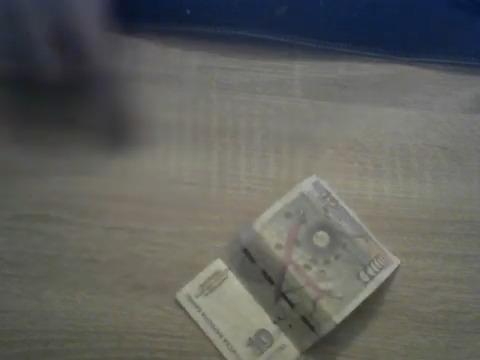10leva: (174, 175, 401, 360)
